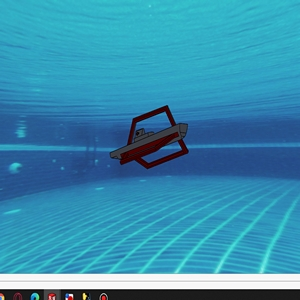submarine: (108, 103, 190, 165)
